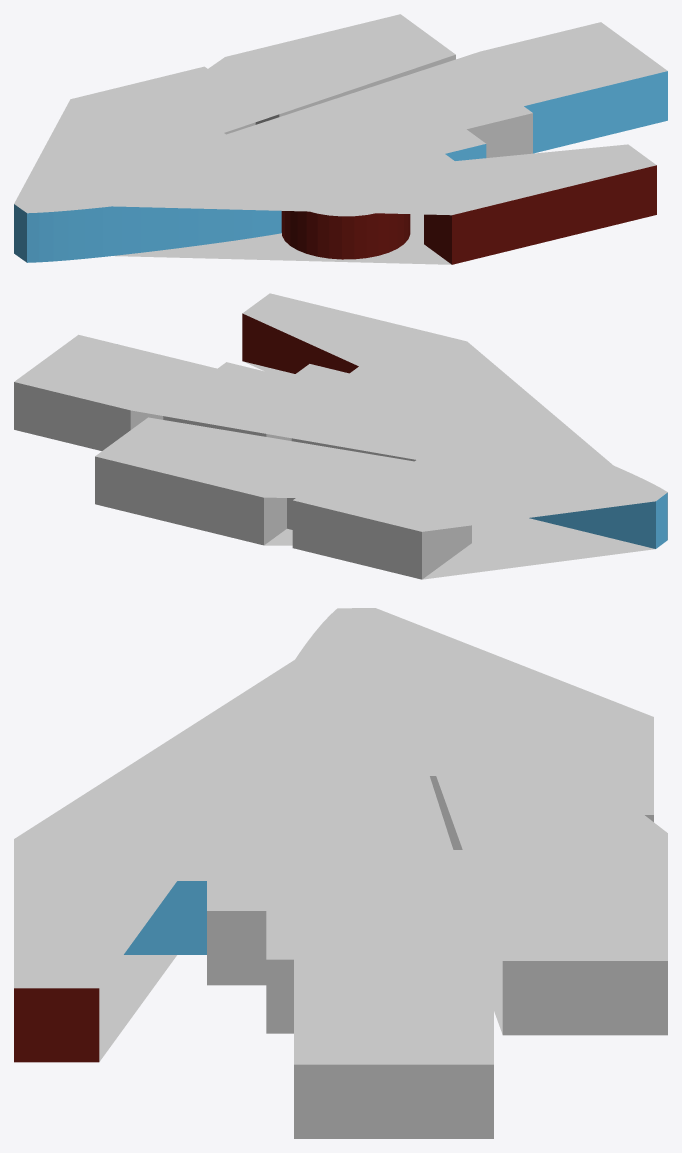
The model's file is kagidai.fbx.
3 renders of one model, top to bottom at view 1: azimuth 30°, elevation 25°; view 2: azimuth 150°, elevation 25°; view 3: azimuth 270°, elevation 25°, orthographic. The views are drawn at different scales.
Visible parts, largest first — view 1: path2577.001; view 2: path2577.001; view 3: path2577.001.
Part boxes in pixels (<box>): path2577.001: <box>14,14,667,264</box>; path2577.001: <box>14,293,667,579</box>; path2577.001: <box>14,608,667,1138</box>.
Bounding box in the file's own units: 609 × 46.06 × 368.
